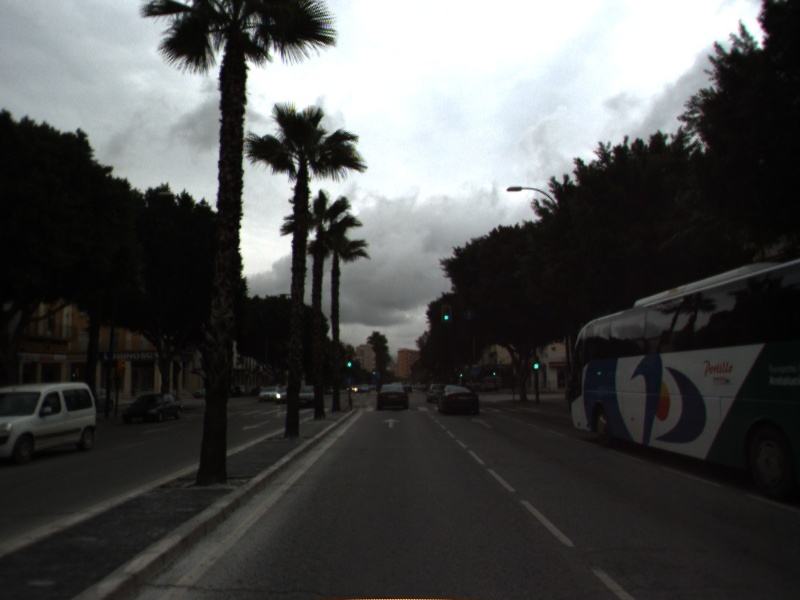STRAIGHT: (468, 415, 496, 431), (380, 415, 402, 430)
